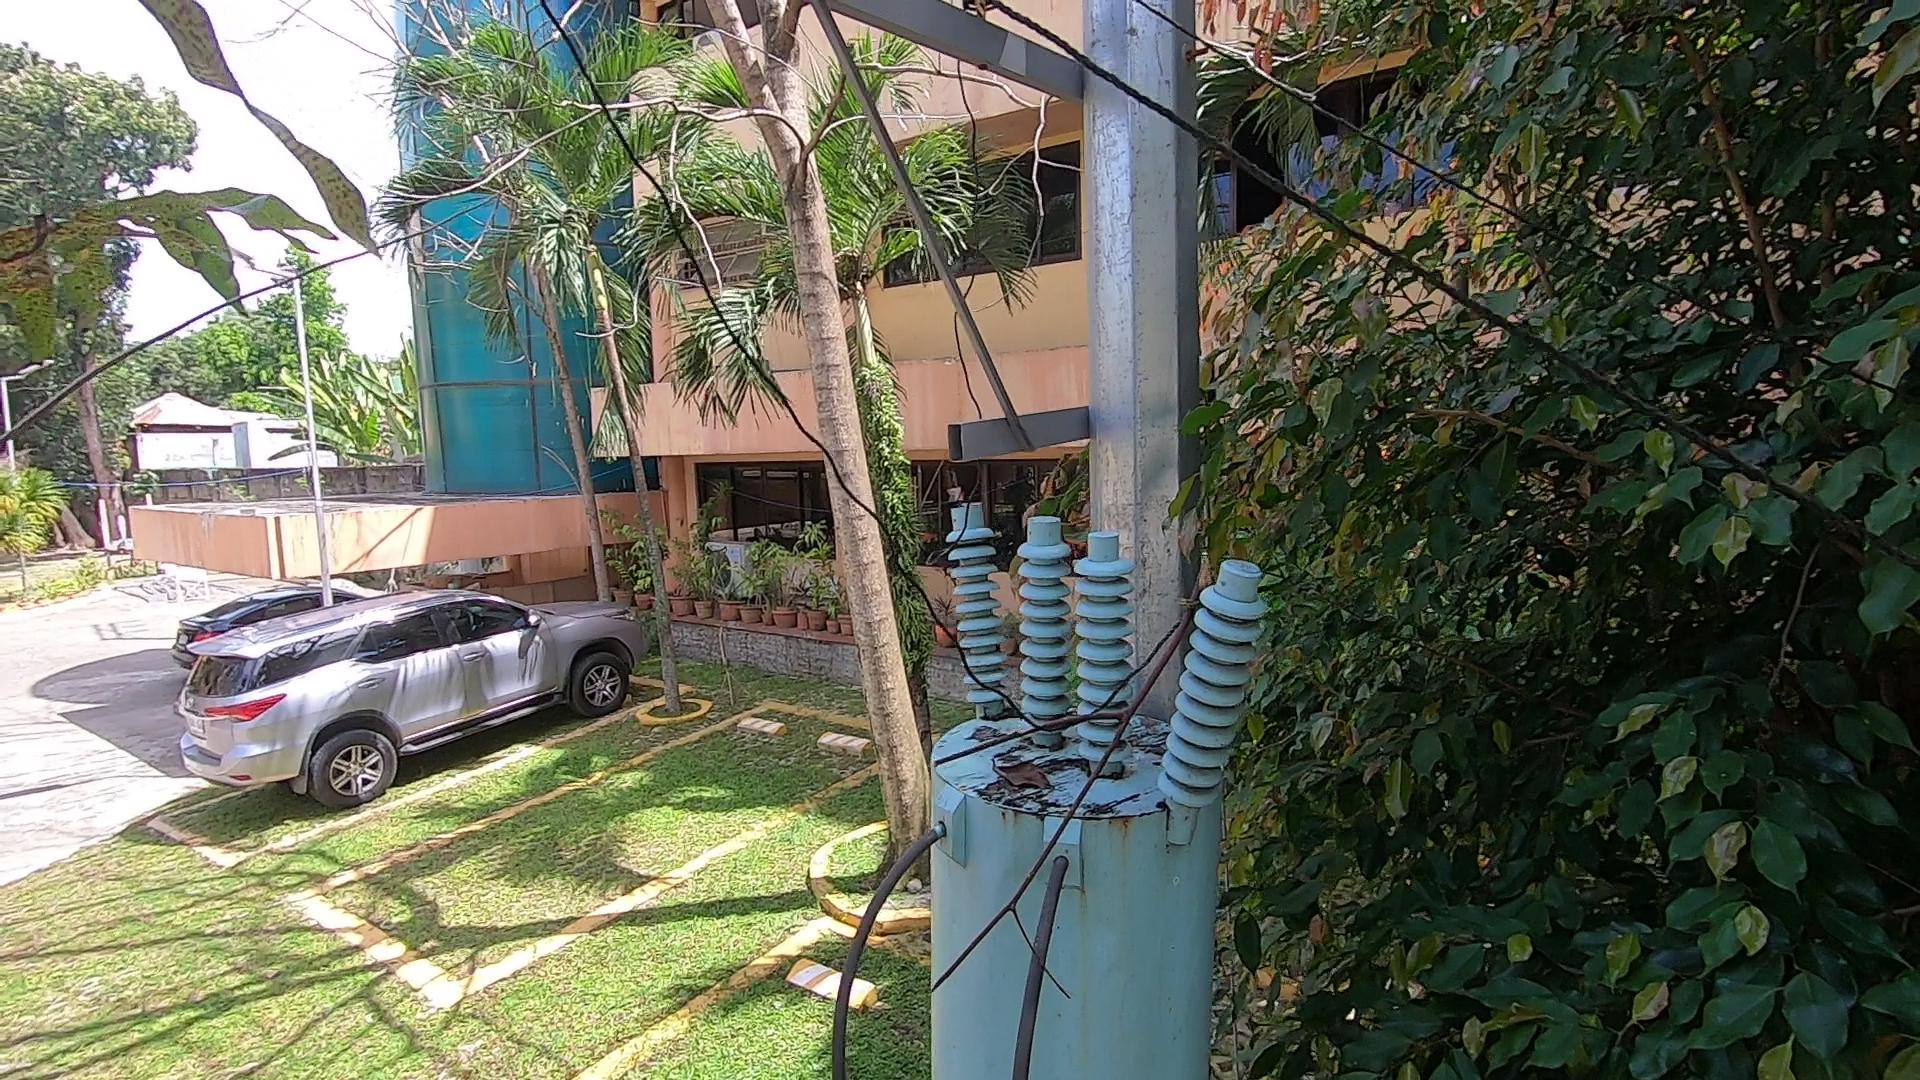leaf: (978, 753, 1063, 814)
tree branch: (902, 539, 1220, 998)
